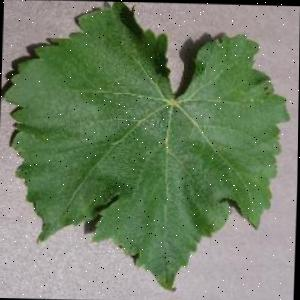Folha: (0, 0, 292, 294)
